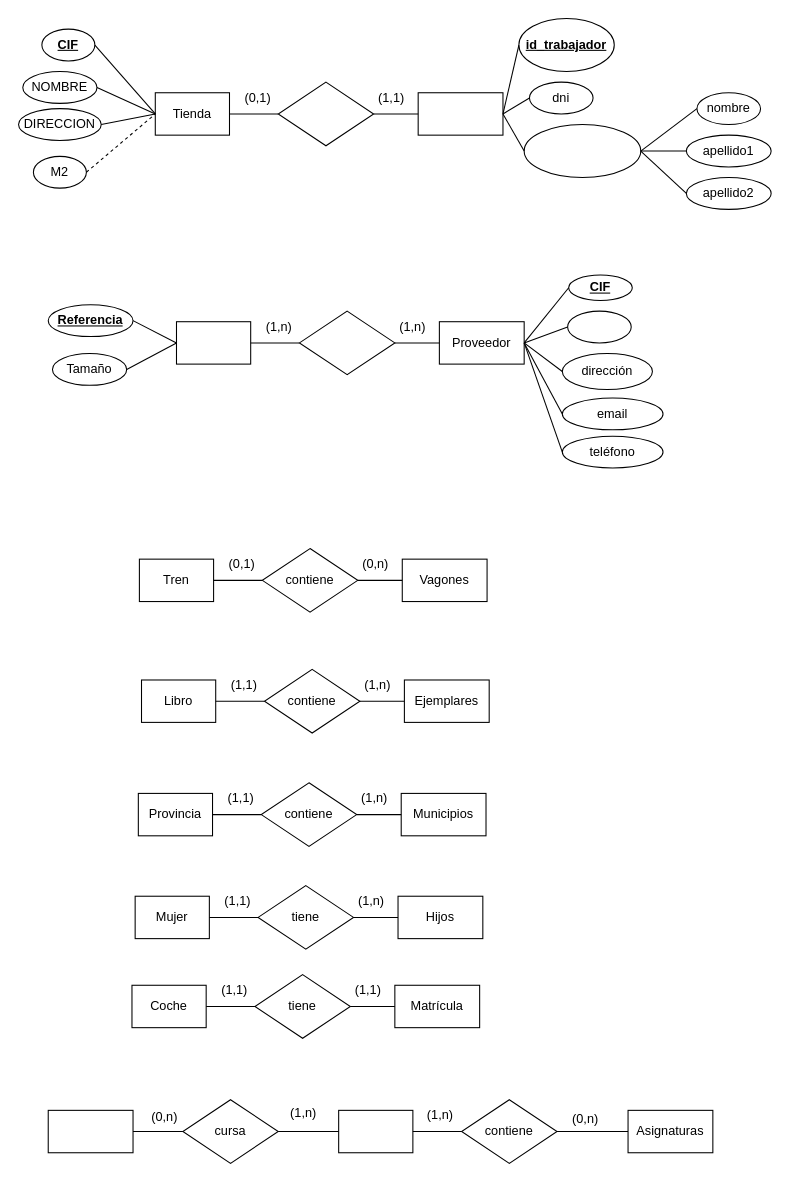
This 790x1182 diagram has some shape labels left out. The box of each missing label's shape, as (x1, y1, x2, y2) in pixels:
administra: (277, 81, 374, 146)
Alumnos: (47, 1109, 133, 1153)
Módulo: (338, 1109, 413, 1153)
nombre_completo: (523, 123, 641, 178)
Pieza: (175, 321, 251, 364)
provee: (298, 310, 395, 375)
sociedad: (567, 310, 631, 343)
Trabajador: (417, 92, 503, 135)
